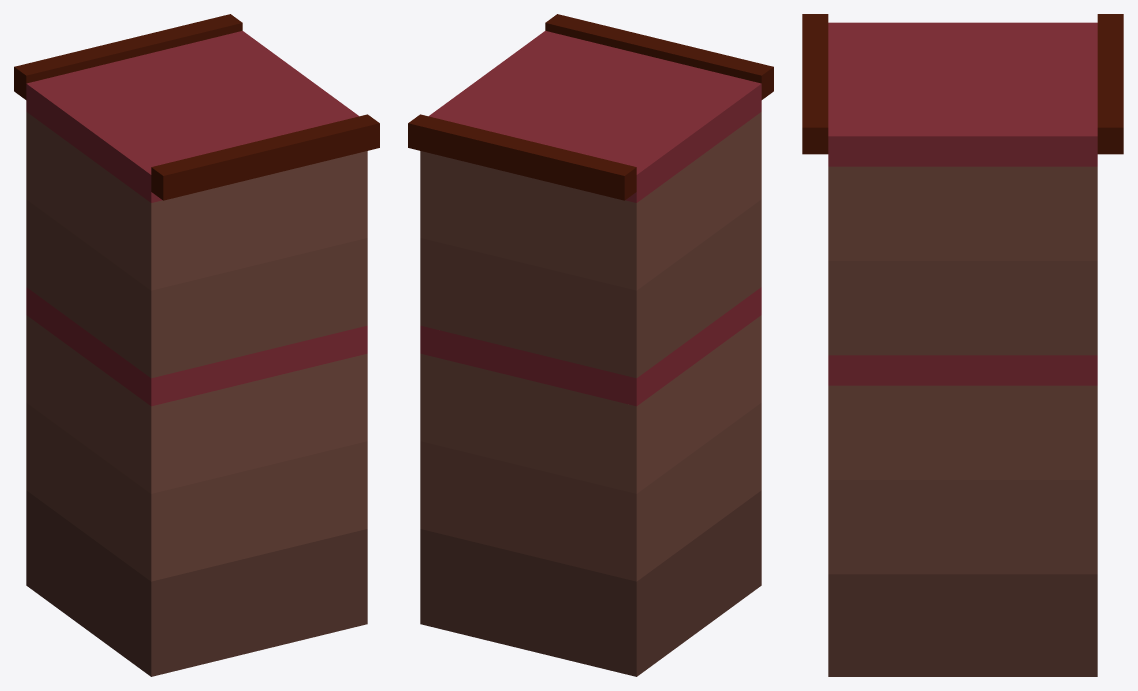
File: Plano14.fbx
3 renders of one model, left to right at view 1: azimuth 30°, elevation 25°; view 2: azimuth 150°, elevation 25°; view 3: azimuth 270°, elevation 25°, orthographic. The views are drawn at different scales.
Parts seen in each view (by area): view 1: Plane.072, Plane.070, Plane.071, Cube.1724, Plane.073; view 2: Plane.072, Plane.070, Plane.071, Cube.1724, Plane.073; view 3: Plane.072, Plane.070, Plane.071, Plane.073, Cube.1724.
Boxes of the visible parts, x1,y1,x2,y2 form: Plane.072: (26, 315, 367, 676); Plane.070: (26, 112, 367, 378); Plane.071: (26, 31, 358, 202); Cube.1724: (14, 14, 379, 200); Plane.073: (26, 287, 367, 406); Plane.072: (420, 315, 761, 676); Plane.070: (420, 112, 761, 378); Plane.071: (429, 31, 761, 202); Cube.1724: (408, 14, 773, 200); Plane.073: (420, 287, 761, 406); Plane.072: (828, 385, 1097, 676); Plane.070: (828, 166, 1097, 355); Plane.071: (828, 22, 1097, 166); Plane.073: (828, 355, 1097, 385); Cube.1724: (802, 14, 1123, 154).
Size of the model in its own units: 800 by 1800 by 955.
